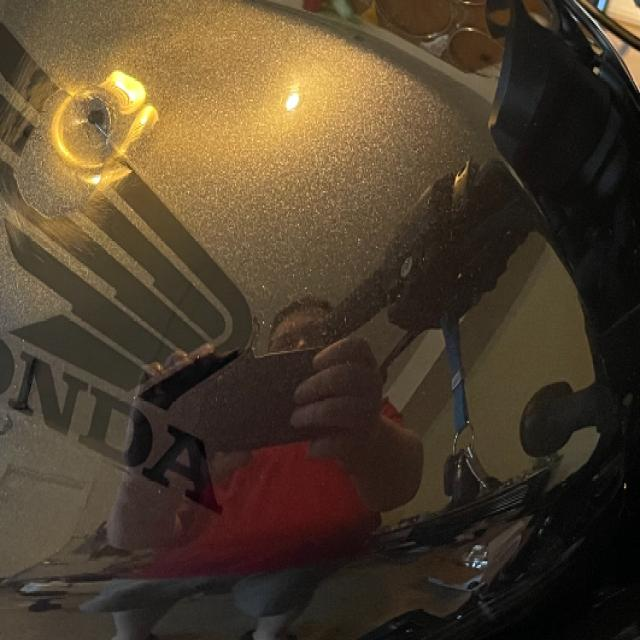dents: (42, 71, 175, 183)
